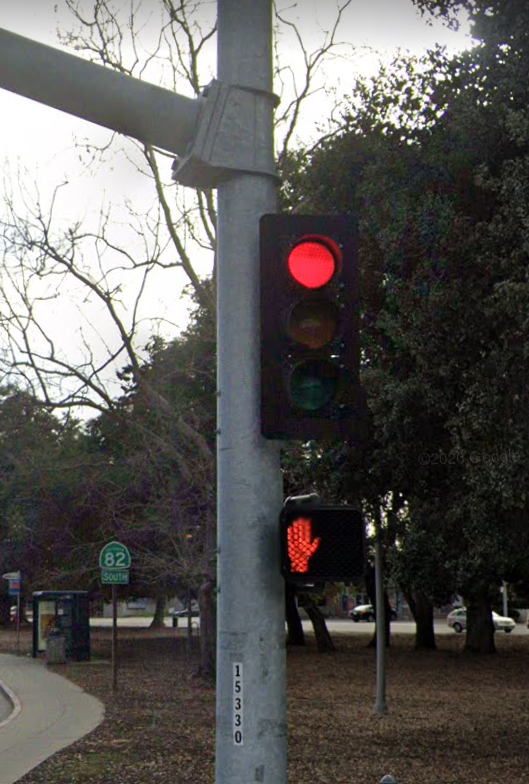red_light: (262, 219, 355, 434)
